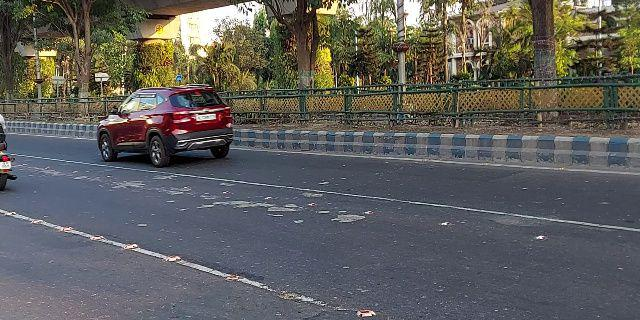Car: (94, 82, 234, 169)
Motorbike: (1, 108, 19, 193)
